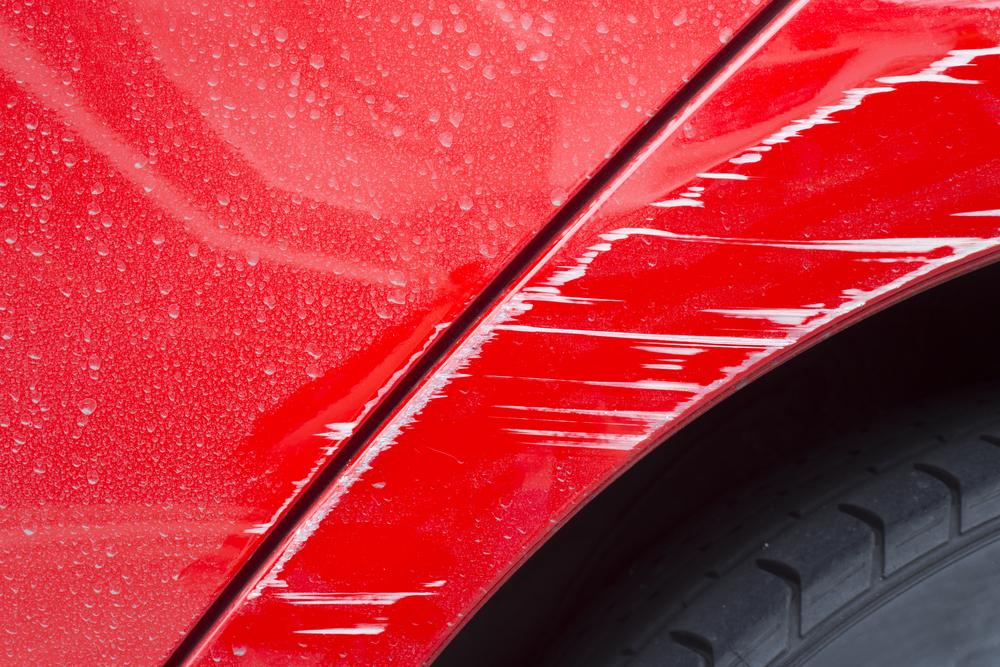scratch: (238, 25, 1000, 644), (241, 319, 462, 539)
